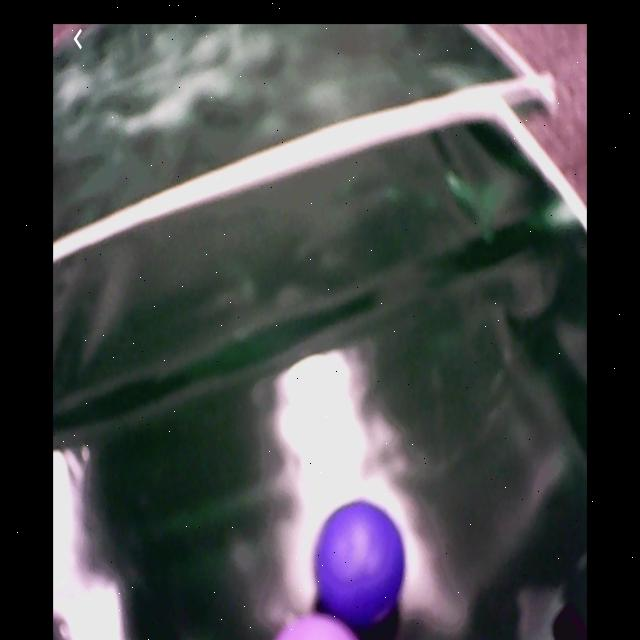ball: (315, 501, 404, 623), (277, 613, 364, 640)
